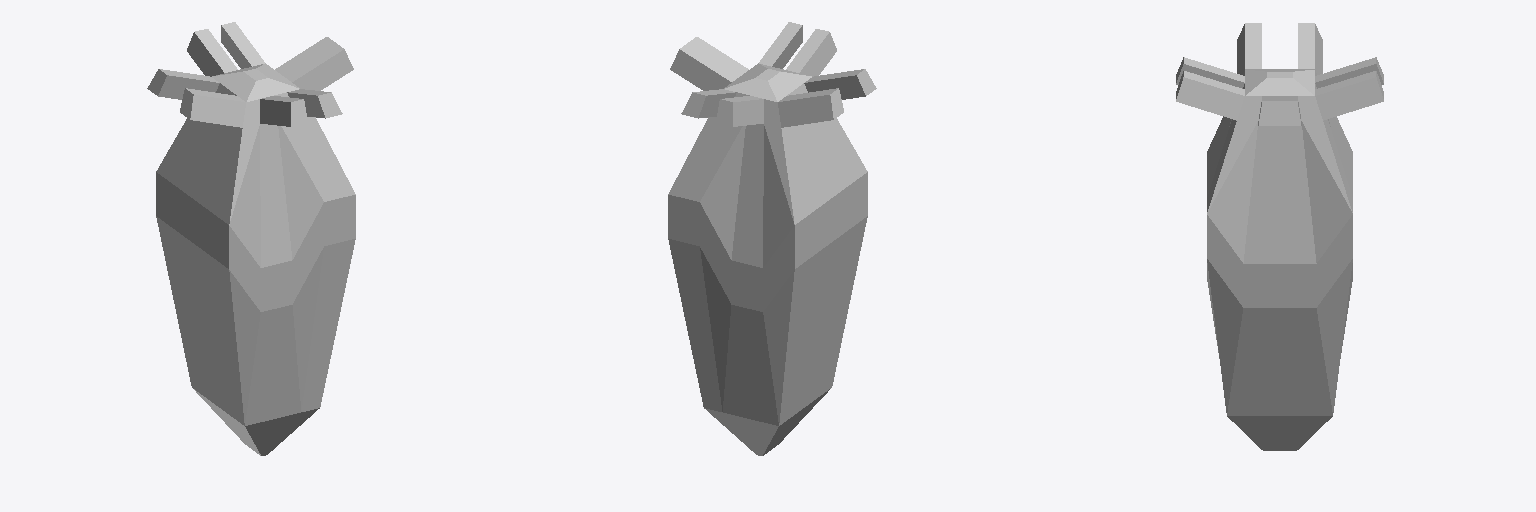
Rendered from bombv1.obj.
3 views of the same model, side by side, from view 1: azimuth 30°, elevation 25°; view 2: azimuth 150°, elevation 25°; view 3: azimuth 270°, elevation 25° (orthographic).
Parts seen in each view (by area): view 1: Cube; view 2: Cube; view 3: Cube.
Boxes of the visible parts, <box> form: Cube: <box>147,22,355,455</box>; Cube: <box>668,22,876,455</box>; Cube: <box>1176,23,1383,450</box>.
Bounding box in the file's own units: 0.8277 × 1.76 × 0.8561.